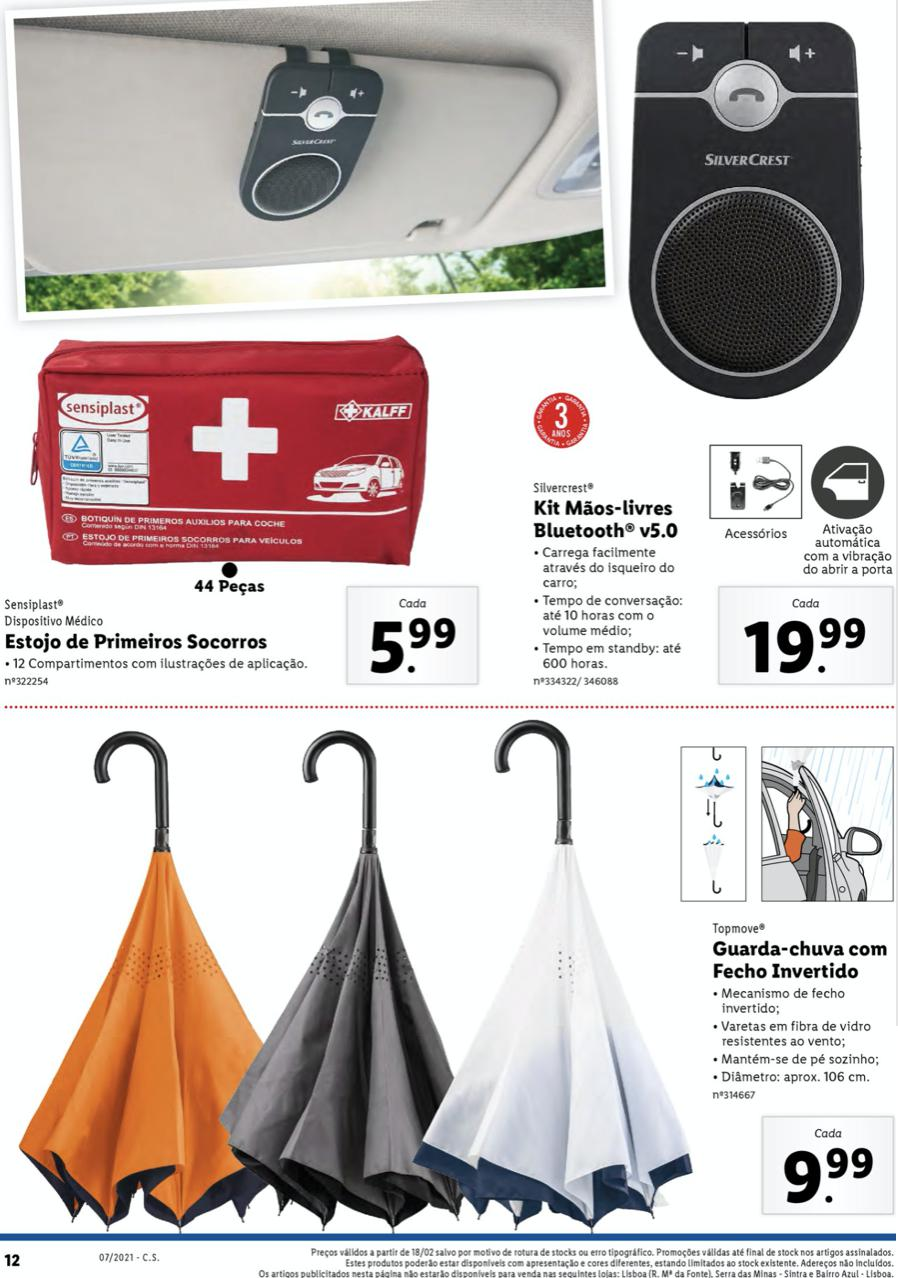name: (528, 495, 687, 543), (709, 940, 888, 982), (4, 629, 272, 654)
price: (744, 614, 867, 675), (779, 1144, 872, 1211), (366, 616, 469, 675)
product: (2, 729, 890, 1232), (518, 5, 893, 702), (1, 325, 488, 709)
